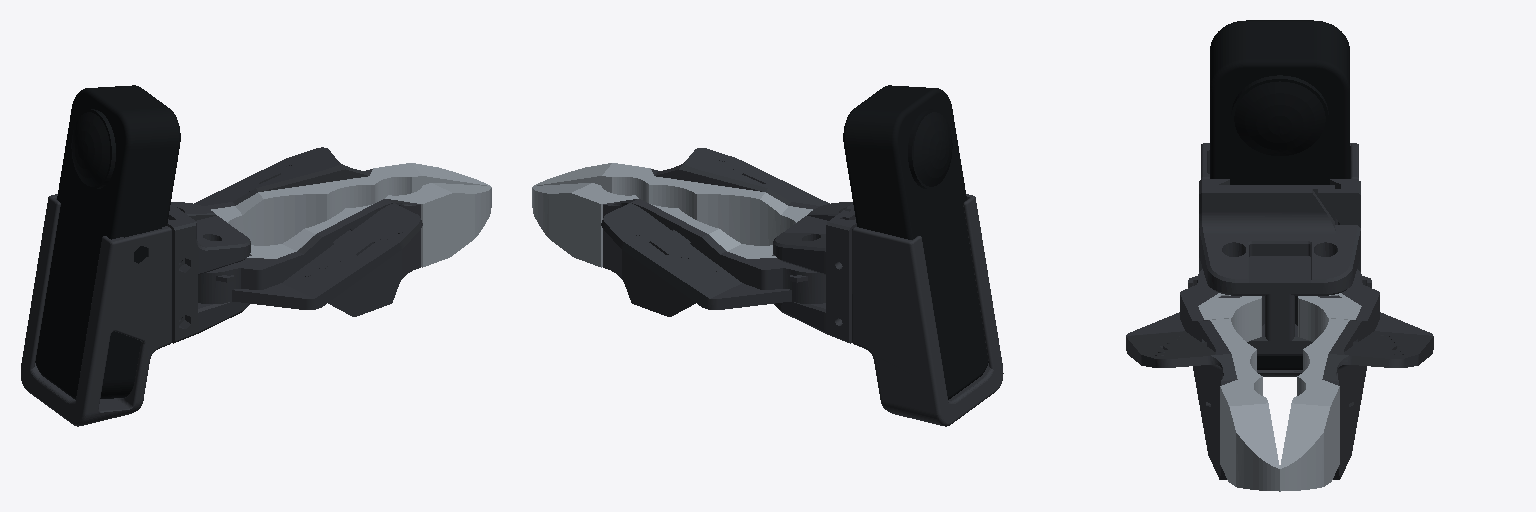
URDF robot description (chopstick_data):
<?xml version="1.0"?>
<!-- Generated by chopstick/cad/urdf.py from the KIWI chopstick CAD. Units: m, rad. -->
<robot name="chopstick_data">
  <material name="black"><color rgba="0.24 0.25 0.27 1"/></material>
  <material name="tpu"><color rgba="0.6 0.63 0.66 1"/></material>
  <material name="camera"><color rgba="0.11 0.12 0.13 1"/></material>
  <link name="chopstick_base">
    <visual name="chopstick_base_dc"><origin xyz="0 0 0" rpy="0 0 0"/><geometry><mesh filename="meshes/chopstick_base_dc.stl" scale="0.001 0.001 0.001"/></geometry><material name="black"/></visual>
    <collision name="chopstick_base_dc"><origin xyz="0 0 0" rpy="0 0 0"/><geometry><mesh filename="meshes/chopstick_base_dc.stl" scale="0.001 0.001 0.001"/></geometry></collision>
    <visual name="chopstick_clip_dc"><origin xyz="0 0 0" rpy="0 0 0"/><geometry><mesh filename="meshes/chopstick_clip_dc.stl" scale="0.001 0.001 0.001"/></geometry><material name="black"/></visual>
    <collision name="chopstick_clip_dc"><origin xyz="0 0 0" rpy="0 0 0"/><geometry><mesh filename="meshes/chopstick_clip_dc.stl" scale="0.001 0.001 0.001"/></geometry></collision>
    <visual name="x5_lite_frame"><origin xyz="0 0 0" rpy="0 0 0"/><geometry><mesh filename="meshes/x5_lite_frame.stl" scale="0.001 0.001 0.001"/></geometry><material name="black"/></visual>
    <collision name="x5_lite_frame"><origin xyz="0 0 0" rpy="0 0 0"/><geometry><mesh filename="meshes/x5_lite_frame.stl" scale="0.001 0.001 0.001"/></geometry></collision>
    <visual name="insta360_x5_envelope"><origin xyz="0 0 0" rpy="0 0 0"/><geometry><mesh filename="meshes/insta360_x5_envelope.stl" scale="0.001 0.001 0.001"/></geometry><material name="camera"/></visual>
    <collision name="insta360_x5_envelope"><origin xyz="0 0 0" rpy="0 0 0"/><geometry><mesh filename="meshes/insta360_x5_envelope.stl" scale="0.001 0.001 0.001"/></geometry></collision>
    <inertial><origin xyz="0.0312296 0.000129056 0.0131622" rpy="0 0 0"/><mass value="0.25562"/><inertia ixx="0.0003371" ixy="5.58e-07" ixz="-3.41e-05" iyy="0.0003415" iyz="1.382e-06" izz="0.0001012"/></inertial>
  </link>
  <link name="chopstick_jaw_left">
    <visual name="jaw_left_dc"><origin xyz="0 0 0" rpy="0 0 0"/><geometry><mesh filename="meshes/jaw_left_dc_jawframe.stl" scale="0.001 0.001 0.001"/></geometry><material name="black"/></visual>
    <collision name="jaw_left_dc"><origin xyz="0 0 0" rpy="0 0 0"/><geometry><mesh filename="meshes/jaw_left_dc_jawframe.stl" scale="0.001 0.001 0.001"/></geometry></collision>
    <visual name="tip_tpu_left"><origin xyz="0 0 0" rpy="0 0 0"/><geometry><mesh filename="meshes/tip_tpu_left_jawframe.stl" scale="0.001 0.001 0.001"/></geometry><material name="tpu"/></visual>
    <collision name="tip_tpu_left"><origin xyz="0 0 0" rpy="0 0 0"/><geometry><mesh filename="meshes/tip_tpu_left_jawframe.stl" scale="0.001 0.001 0.001"/></geometry></collision>
    <inertial><origin xyz="0.0648881 0.00199877 -0.00299537" rpy="0 0 0"/><mass value="0.048804"/><inertia ixx="6.693e-06" ixy="7.457e-06" ixz="1.145e-06" iyy="6.866e-05" iyz="-3.958e-07" izz="6.955e-05"/></inertial>
  </link>
  <link name="chopstick_tip_left"/>
  <link name="chopstick_jaw_right">
    <visual name="jaw_right"><origin xyz="0 0 0" rpy="0 0 0"/><geometry><mesh filename="meshes/jaw_right_jawframe.stl" scale="0.001 0.001 0.001"/></geometry><material name="black"/></visual>
    <collision name="jaw_right"><origin xyz="0 0 0" rpy="0 0 0"/><geometry><mesh filename="meshes/jaw_right_jawframe.stl" scale="0.001 0.001 0.001"/></geometry></collision>
    <visual name="tip_tpu_right"><origin xyz="0 0 0" rpy="0 0 0"/><geometry><mesh filename="meshes/tip_tpu_right_jawframe.stl" scale="0.001 0.001 0.001"/></geometry><material name="tpu"/></visual>
    <collision name="tip_tpu_right"><origin xyz="0 0 0" rpy="0 0 0"/><geometry><mesh filename="meshes/tip_tpu_right_jawframe.stl" scale="0.001 0.001 0.001"/></geometry></collision>
    <inertial><origin xyz="0.0648724 -0.0019661 -0.00301111" rpy="0 0 0"/><mass value="0.048738"/><inertia ixx="6.65e-06" ixy="-7.43e-06" ixz="1.142e-06" iyy="6.877e-05" iyz="3.832e-07" izz="6.964e-05"/></inertial>
  </link>
  <link name="chopstick_tip_right"/>
  <link name="chopstick_camera"/>
  <link name="chopstick_tcp"/>
  <joint name="chopstick_jaw" type="revolute">
    <parent link="chopstick_base"/><child link="chopstick_jaw_left"/>
    <origin xyz="0.06733 0.015 0" rpy="0 0 0"/><axis xyz="0 0 1"/>
    <limit lower="0.00000" upper="1.25664" effort="4" velocity="6"/>
  </joint>
  <joint name="chopstick_tip_left_joint" type="fixed"><parent link="chopstick_jaw_left"/><child link="chopstick_tip_left"/><origin xyz="0.137417 -0.015085 -0.003671" rpy="0 0 0"/></joint>
  <joint name="chopstick_jaw_right" type="revolute">
    <parent link="chopstick_base"/><child link="chopstick_jaw_right"/>
    <origin xyz="0.06733 -0.015 0" rpy="0 0 0"/><axis xyz="0 0 1"/>
    <limit lower="-1.25664" upper="0.00000" effort="4" velocity="6"/>
    <mimic joint="chopstick_jaw" multiplier="-1" offset="0"/>
  </joint>
  <joint name="chopstick_tip_right_joint" type="fixed"><parent link="chopstick_jaw_right"/><child link="chopstick_tip_right"/><origin xyz="0.137417 0.015085 -0.003671" rpy="0 0 0"/></joint>
  <joint name="chopstick_camera_joint" type="fixed"><parent link="chopstick_base"/><child link="chopstick_camera"/><origin xyz="0.034420877 0 0.057" rpy="0 0.174532726 0"/></joint>
  <joint name="chopstick_tcp_joint" type="fixed"><parent link="chopstick_base"/><child link="chopstick_tcp"/><origin xyz="0.204747 0 -0.003671" rpy="0 0 0"/></joint>
</robot>

--- What the picture shows (computed from the rendered views, not written in the file) ---
The picture shows the robot from 3 angles, left to right: view 1: azimuth 30°, elevation 25°; view 2: azimuth 150°, elevation 25°; view 3: azimuth 270°, elevation 25°; orthographic projection.
Robot: chopstick_data — 7 links, 6 joints (2 revolute, 4 fixed); root link chopstick_base; default pose: every joint at zero.
Visible links, largest first — view 1: chopstick_base, chopstick_jaw_right, chopstick_jaw_left; view 2: chopstick_base, chopstick_jaw_left, chopstick_jaw_right; view 3: chopstick_base, chopstick_jaw_right, chopstick_jaw_left.
Link boxes in pixels (x1,y1,x2,y2): chopstick_base: [21, 85, 250, 426]; chopstick_jaw_right: [198, 183, 491, 316]; chopstick_jaw_left: [194, 147, 489, 245]; chopstick_base: [773, 85, 1003, 426]; chopstick_jaw_left: [532, 183, 825, 316]; chopstick_jaw_right: [534, 148, 829, 245]; chopstick_base: [1199, 20, 1360, 376]; chopstick_jaw_right: [1126, 269, 1279, 491]; chopstick_jaw_left: [1280, 269, 1433, 491].
Size in the robot's own frame: 0.204 by 0.1008 by 0.1302 metres.
8 mesh visuals loaded from 8 distinct referenced files (8 binary STL).
